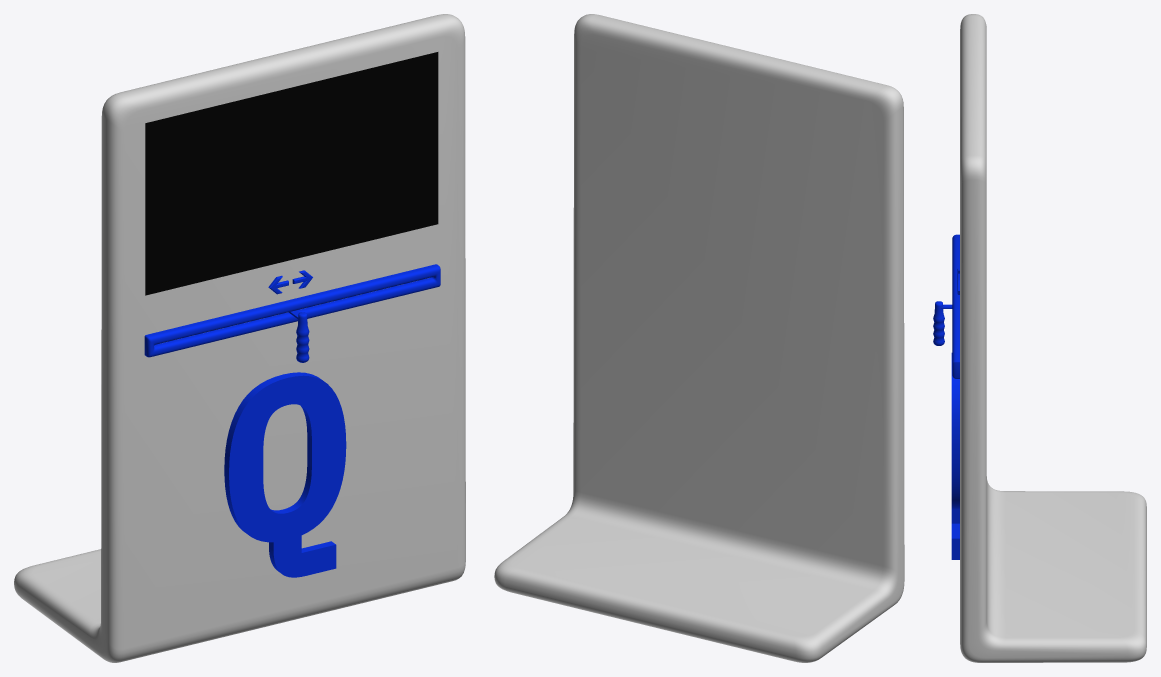
The model's file is QPod.FBX.
3 views of the same model, side by side, from view 1: azimuth 30°, elevation 25°; view 2: azimuth 150°, elevation 25°; view 3: azimuth 270°, elevation 25° (orthographic). The views are drawn at different scales.
Parts seen in each view (by area): view 1: Machine_body, TV, Blue, Handle; view 2: Machine_body; view 3: Machine_body, Blue, Handle.
Part boxes in pixels (x1,y1,x2,y2): Machine_body: [14, 14, 465, 662]; TV: [145, 52, 438, 295]; Blue: [144, 264, 440, 577]; Handle: [289, 310, 309, 362]; Machine_body: [494, 14, 904, 662]; Machine_body: [960, 14, 1146, 662]; Blue: [951, 234, 959, 559]; Handle: [933, 301, 952, 345].
Bounding box in the file's own units: 132 × 200 × 77.2.
